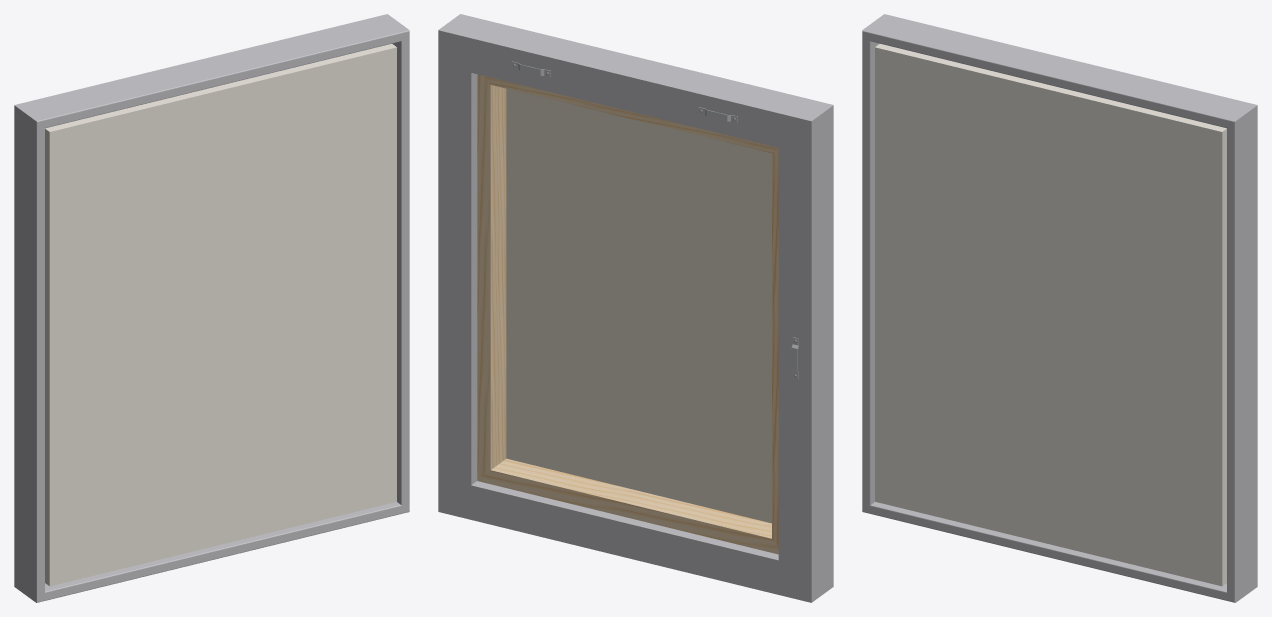
Rendered from decoded-from-delivery.glb.
The picture shows the model from 3 angles, left to right: view 1: azimuth 30°, elevation 25°; view 2: azimuth 150°, elevation 25°; view 3: azimuth 330°, elevation 25°; orthographic projection.
Visible parts, largest first — view 1: Canvas artwork front, Tray approved profile 0; view 2: Canvas linen reverse, Tray approved profile 0, Stretcher top, Sawtooth hanger 0; view 3: Canvas artwork front, Tray approved profile 0.
Boxes of the visible parts, left/top/right/bottom form: Canvas artwork front: left=45, top=44, right=396, bottom=586; Tray approved profile 0: left=14, top=14, right=409, bottom=602; Canvas linen reverse: left=506, top=88, right=771, bottom=523; Tray approved profile 0: left=438, top=14, right=833, bottom=602; Stretcher top: left=477, top=74, right=778, bottom=554; Sawtooth hanger 0: left=511, top=61, right=798, bottom=379; Canvas artwork front: left=875, top=44, right=1226, bottom=586; Tray approved profile 0: left=862, top=14, right=1257, bottom=602.
Bounding box in the file's own units: 0.43 × 0.53 × 0.0474.
Materials: 7 (2 with a texture image).
